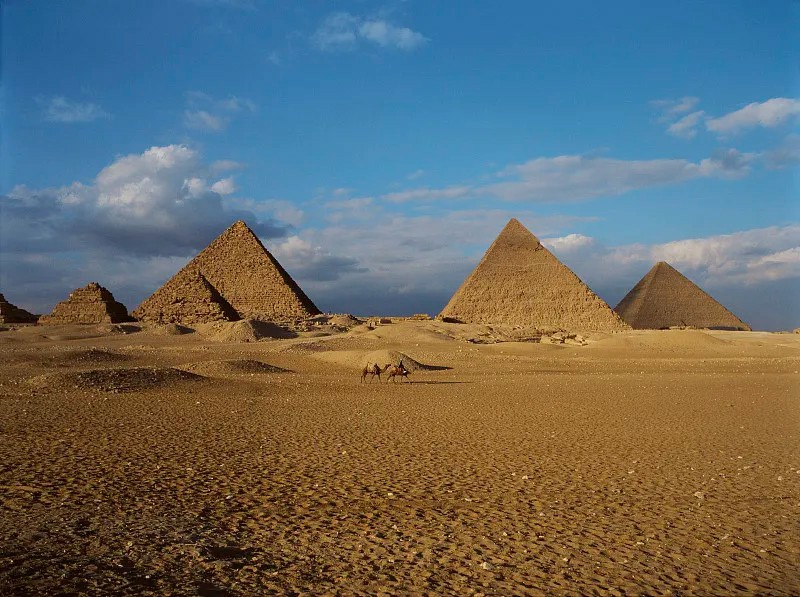Pyramid: (436, 218, 632, 331), (192, 221, 323, 319), (615, 262, 751, 329), (132, 269, 246, 322), (36, 283, 130, 323)
